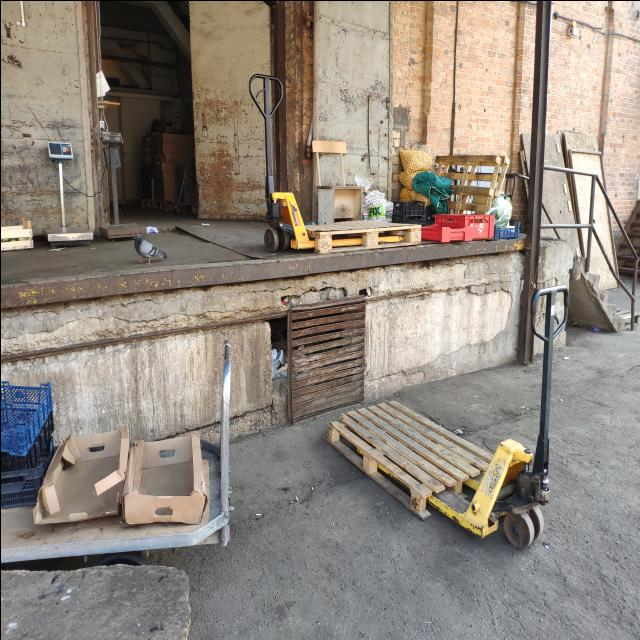entulho: (328, 398, 492, 522), (25, 418, 196, 526), (563, 126, 620, 294), (519, 128, 577, 247), (434, 153, 504, 218), (316, 139, 360, 225), (312, 219, 414, 253), (146, 164, 196, 208), (138, 133, 154, 206), (0, 216, 33, 250), (268, 341, 302, 374), (150, 134, 192, 156)
lixo domiciliar: (0, 382, 52, 456)
